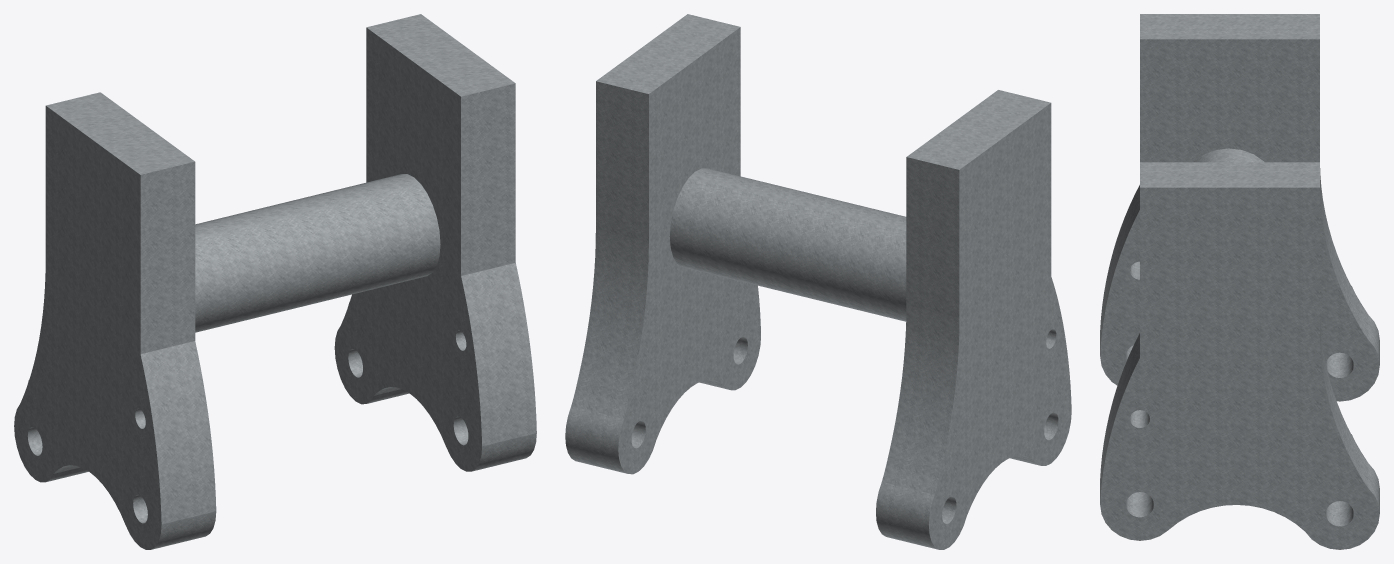
File: rearcross.glb
3 views of the same model, side by side, from view 1: azimuth 30°, elevation 25°; view 2: azimuth 150°, elevation 25°; view 3: azimuth 270°, elevation 25° (orthographic). The views are drawn at different scales.
Parts seen in each view (by area): view 1: root; view 2: root; view 3: root.
Boxes of the visible parts, x1=… form: root: x1=14, y1=14, x2=536, y2=549; root: x1=565, y1=14, x2=1071, y2=549; root: x1=1100, y1=14, x2=1379, y2=549.
Size of the model in its own units: 2.06 by 2 by 1.4.
1 material, 1 textured.
